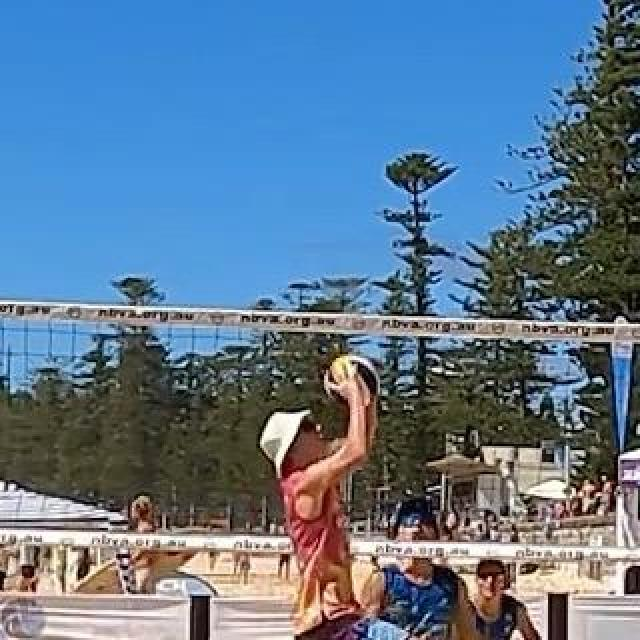volleyball: (326, 354, 380, 410)
